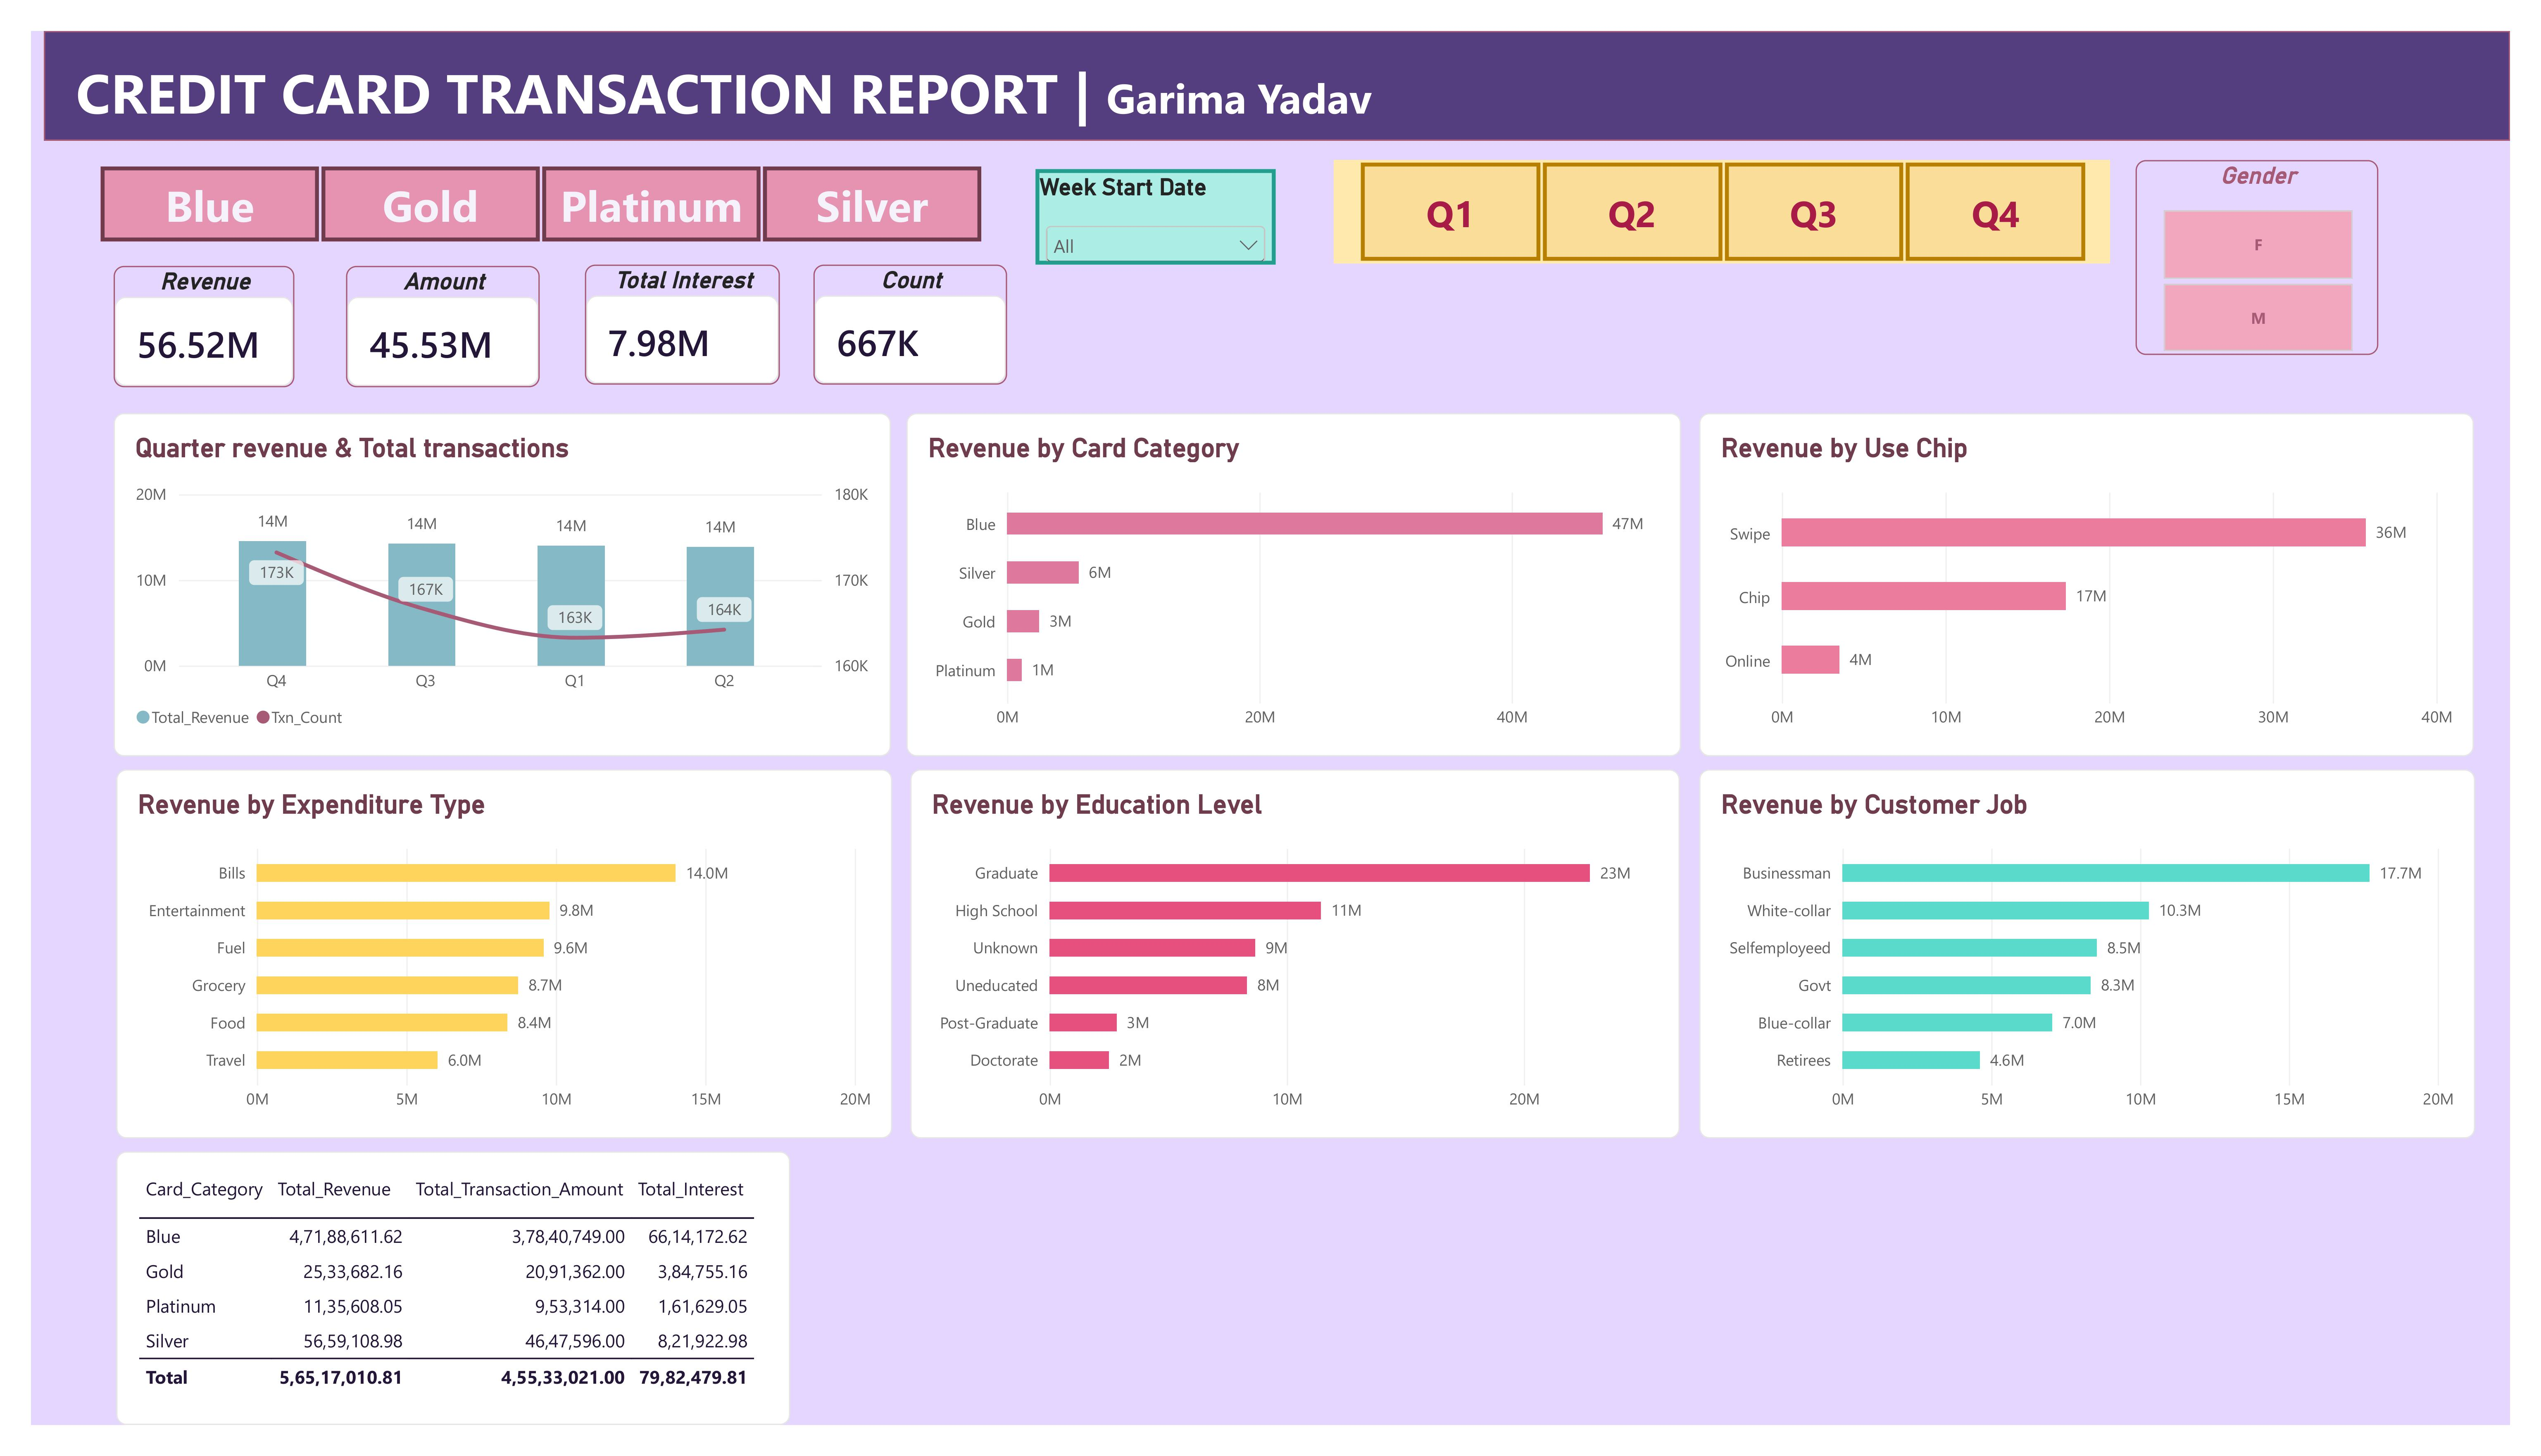

Layout of this report page (visuals, bound fields, positions):
{"tool":"powerbi","page":{"name":"Transaction Dashboard","canvas":[1920,1080],"ordinal":2},"visuals":[{"type":"shape","box":[10,0,1910,85],"z":0},{"type":"textbox","box":[35,17.5,1885,67.5],"z":1000},{"type":"slicer","fields":{"Values":["Credit_Card.Card_Category"]},"box":[32.5,102.5,722.5,62.5],"z":2000},{"type":"cardVisual","title":"Revenue","fields":{"Data":["_Measures.Total_Revenue"]},"box":[64,182,140,94],"z":3000},{"type":"cardVisual","title":"Amount","fields":{"Data":["_Measures.Total_Transaction_Amount"]},"box":[244,182,150,94],"z":4000},{"type":"cardVisual","title":"Total Interest","fields":{"Data":["_Measures.Total_Interest"]},"box":[429.5,181.3,150.3,93.1],"z":5000},{"type":"cardVisual","title":"Count","fields":{"Data":["_Measures.Txn_Count"]},"box":[606,181.3,150.3,93.1],"z":6000},{"type":"slicer","title":"Week Start Date","fields":{"Values":["Credit_Card.Week_Start_Date"]},"box":[777.8,107.4,186.1,74],"z":7000},{"type":"slicer","fields":{"Values":["Credit_Card.Qtr"]},"box":[1009.2,100.2,601.3,80],"z":8000},{"type":"slicer","title":"Gender","fields":{"Values":["Customer.Gender"]},"box":[1629.6,100.2,188.5,150.3],"z":9000},{"type":"lineClusteredColumnComboChart","title":"Quarter revenue & Total transactions","fields":{"Category":["Credit_Card.Qtr"],"Y":["_Measures.Total_Revenue"],"Y2":["_Measures.Txn_Count"]},"box":[64,296,602,266],"z":10000},{"type":"tableEx","fields":{"Values":["Credit_Card.Card_Category","_Measures.Total_Revenue","_Measures.Total_Transaction_Amount","_Measures.Total_Interest"]},"box":[66.2,867.5,521.2,212.5],"z":11000},{"type":"clusteredBarChart","title":"Revenue by Use Chip","fields":{"Category":["Credit_Card.Use Chip"],"Y":["_Measures.Total_Revenue"]},"box":[1292,296,600,266],"z":12000},{"type":"clusteredBarChart","title":"Revenue by Expenditure Type","fields":{"Category":["Credit_Card.Exp Type"],"Y":["_Measures.Total_Revenue"]},"box":[66,572,601,286],"z":13000},{"type":"clusteredBarChart","title":"Revenue by Education Level","fields":{"Category":["Customer.Education_Level"],"Y":["_Measures.Total_Revenue"]},"box":[681,572,596.5,286.3],"z":14000},{"type":"clusteredBarChart","title":"Revenue by Customer Job","fields":{"Category":["Customer.Customer_Job"],"Y":["_Measures.Total_Revenue"]},"box":[1292,572,601.3,286.3],"z":15000},{"type":"clusteredBarChart","title":"Revenue by Card Category","fields":{"Category":["Credit_Card.Card_Category"],"Y":["_Measures.Total_Revenue"]},"box":[678,296,600,266],"z":16000}]}

Visuals, with their boxes on the page's 1920x1080 design canvas (x1, y1, x2, y2). These are canvas units, not pixel positions in the 2541x1456 screenshot, which may show the page scaled, cropped or inside an application window:
shape: (10,0,1920,85)
textbox: (35,18,1920,85)
slicer - Credit_Card.Card_Category: (32,102,755,165)
"Revenue" cardVisual: (64,182,204,276)
"Amount" cardVisual: (244,182,394,276)
"Total Interest" cardVisual: (430,181,580,274)
"Count" cardVisual: (606,181,756,274)
"Week Start Date" slicer: (778,107,964,181)
slicer - Credit_Card.Qtr: (1009,100,1610,180)
"Gender" slicer: (1630,100,1818,250)
"Quarter revenue & Total transactions" lineClusteredColumnComboChart: (64,296,666,562)
tableEx - Credit_Card.Card_Category x _Measures.Total_Revenue: (66,868,587,1080)
"Revenue by Use Chip" clusteredBarChart: (1292,296,1892,562)
"Revenue by Expenditure Type" clusteredBarChart: (66,572,667,858)
"Revenue by Education Level" clusteredBarChart: (681,572,1278,858)
"Revenue by Customer Job" clusteredBarChart: (1292,572,1893,858)
"Revenue by Card Category" clusteredBarChart: (678,296,1278,562)
